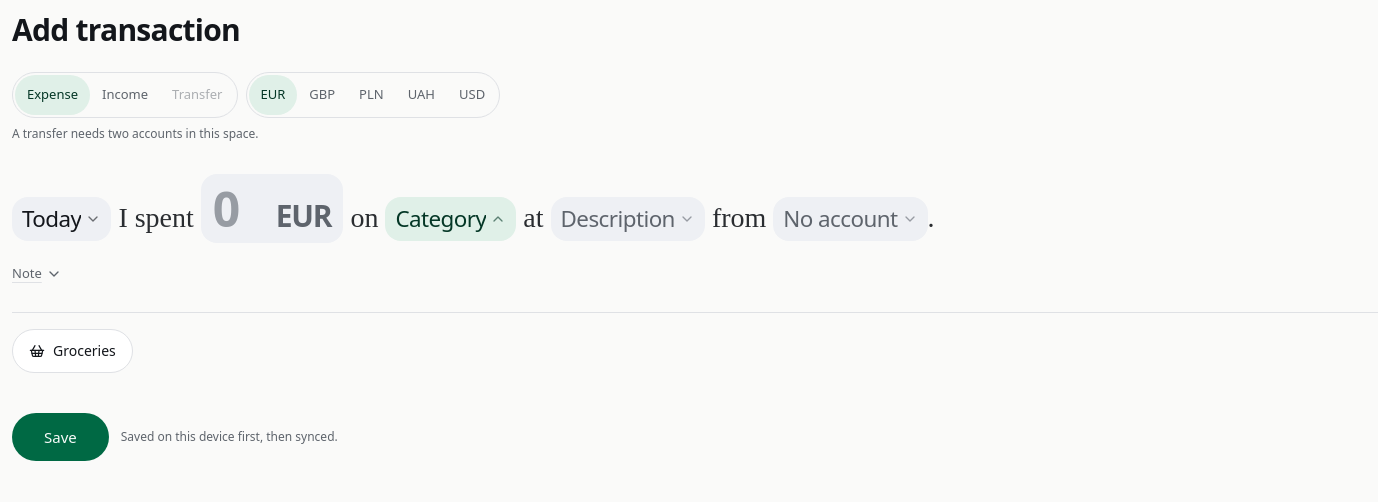
it: the journal entry screen › locks the currency to the picked account and frees it without one (BR-39)
Click the button "No account".
click(850, 219)  # box [773,197,928,241]
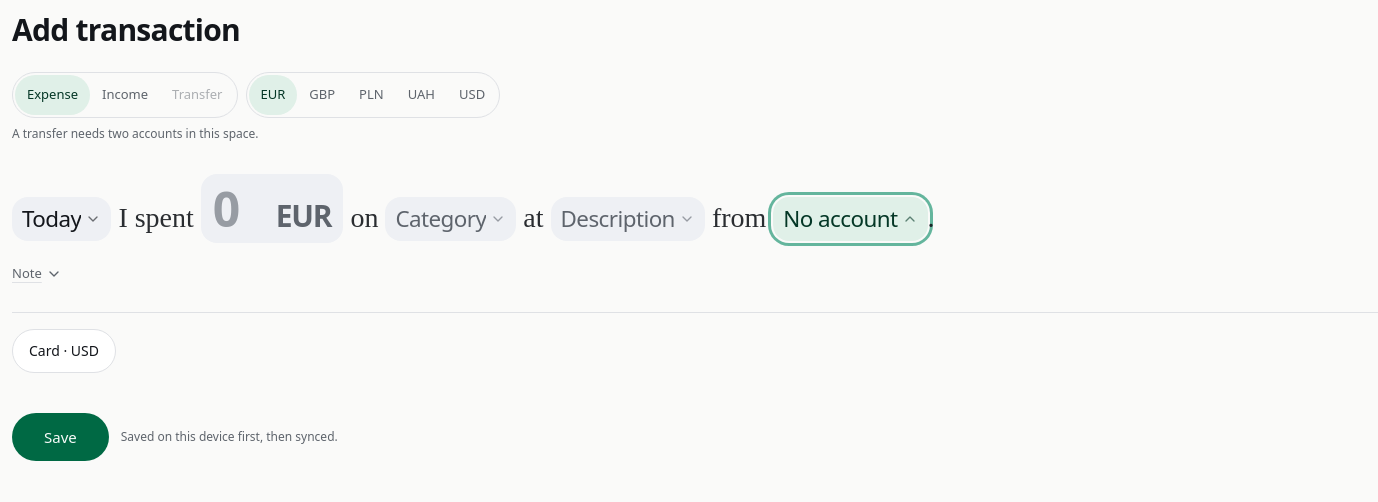
Click the radio button labelled "Card · USD".
click(64, 351)  # box [12,329,116,373]
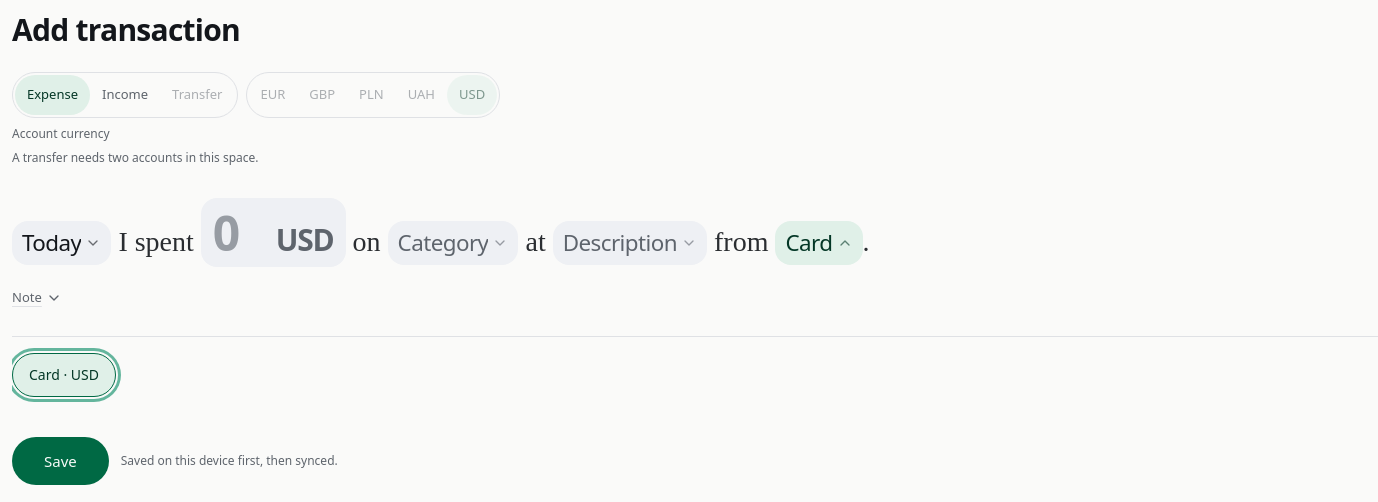
Expected: the radio button labelled "USD" is shown, [447,75,497,115]
Expected: the radio button labelled "USD" is disabled, [447,75,497,115]
Expected: the text "Account currency" is shown, [12,125,110,142]
Click the radio button labelled "Card · USD".
click(64, 375)  # box [12,353,116,397]
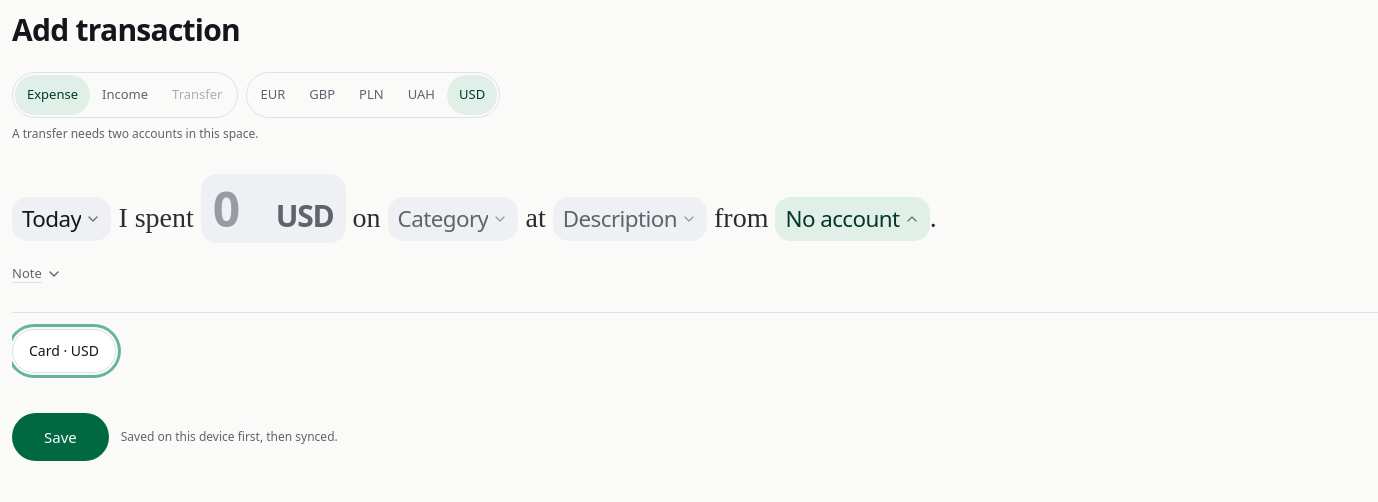
Expected: the radio button labelled "USD" is enabled, [447,75,497,115]
Expected: the text "Account currency" is gone
